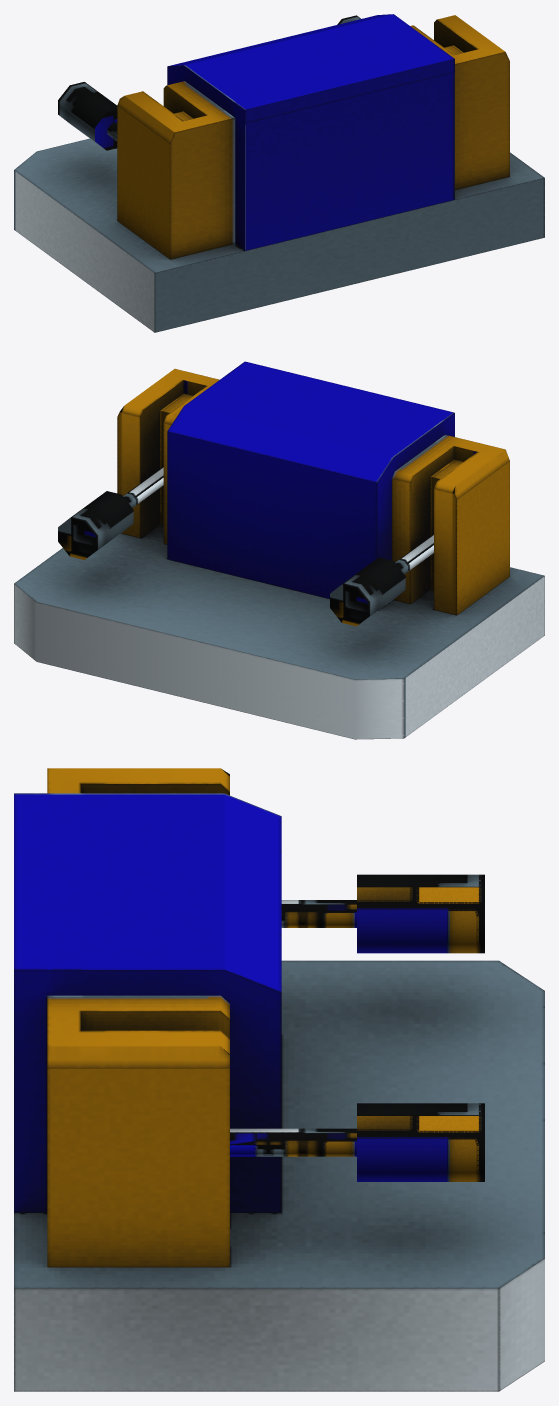
Rendered from group_ditch_standingEmplacementB.FBX.
3 renders of one model, top to bottom at view 1: azimuth 30°, elevation 25°; view 2: azimuth 150°, elevation 25°; view 3: azimuth 270°, elevation 25°, orthographic. The views are drawn at different scales.
Parts seen in each view (by area): view 1: ditch_standingEmplacementB, standingEmplacementB_turret_PC; view 2: ditch_standingEmplacementB, standingEmplacementB_turret_PC; view 3: ditch_standingEmplacementB, standingEmplacementB_turret_PC.
Boxes of the visible parts, x1,y1,x2,y2 form: ditch_standingEmplacementB: (14,14,544,332); standingEmplacementB_turret_PC: (58,15,360,150); ditch_standingEmplacementB: (14,361,544,739); standingEmplacementB_turret_PC: (58,466,433,626); ditch_standingEmplacementB: (14,768,544,1391); standingEmplacementB_turret_PC: (230,874,484,1181).
Size of the model in its own units: 10.98 by 5.4 by 7.51.
